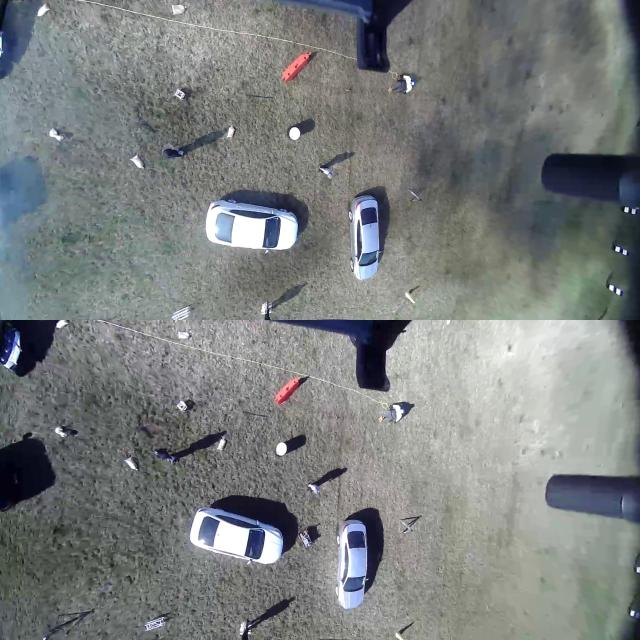car: (189, 506, 288, 565), (204, 199, 301, 256), (332, 516, 372, 612), (348, 193, 385, 280)
